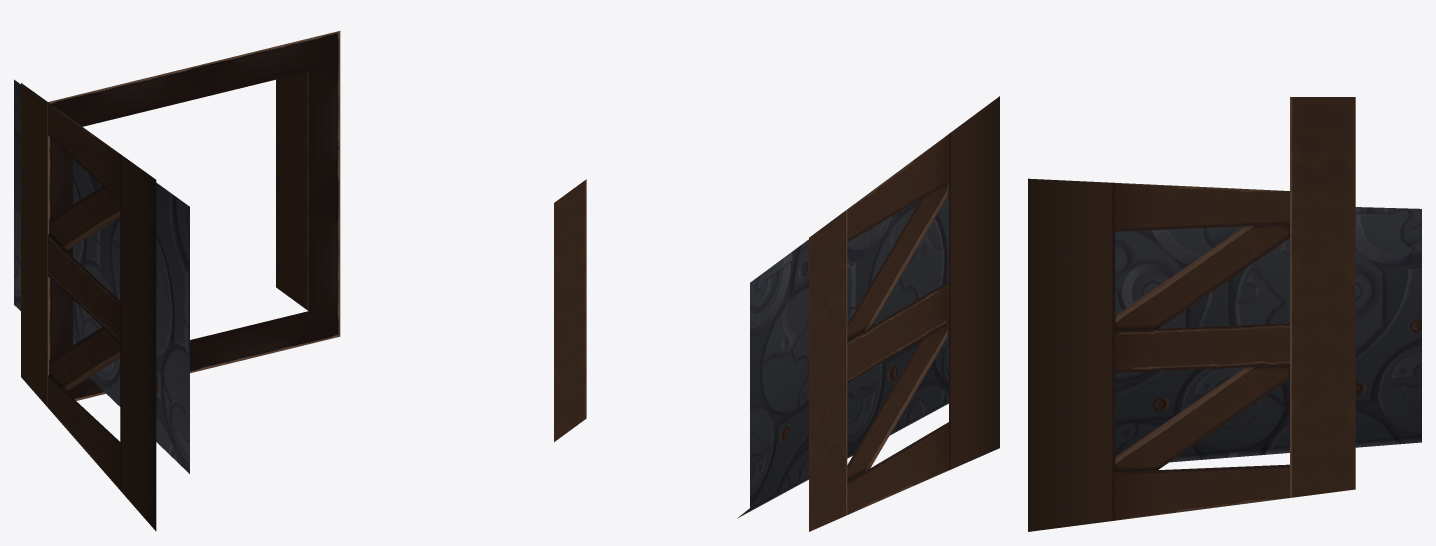
The model's file is understructure_x5.glb.
The picture shows the model from 3 angles, left to right: view 1: azimuth 30°, elevation 25°; view 2: azimuth 150°, elevation 25°; view 3: azimuth 270°, elevation 25°; orthographic projection.
Parts seen in each view (by area): view 1: clockworks.understructure_x5-MeshNodes["understructure_5w"], clockworks.understructure_x5-MeshNodes["understructure_5w_in; view 2: clockworks.understructure_x5-MeshNodes["understructure_5w"], clockworks.understructure_x5-MeshNodes["understructure_5w_in; view 3: clockworks.understructure_x5-MeshNodes["understructure_5w"], clockworks.understructure_x5-MeshNodes["understructure_5w_in.
Part boxes in pixels (x1,y1,x2,y2): clockworks.understructure_x5-MeshNodes["understructure_5w"]: [21, 31, 340, 531]; clockworks.understructure_x5-MeshNodes["understructure_5w_in: [14, 79, 189, 473]; clockworks.understructure_x5-MeshNodes["understructure_5w"]: [554, 96, 999, 531]; clockworks.understructure_x5-MeshNodes["understructure_5w_in: [737, 182, 948, 518]; clockworks.understructure_x5-MeshNodes["understructure_5w"]: [1028, 97, 1355, 531]; clockworks.understructure_x5-MeshNodes["understructure_5w_in: [1115, 207, 1421, 462].
Size of the model in its own units: 5 by 5 by 5.05.
Materials: 2 (2 with a texture image).
